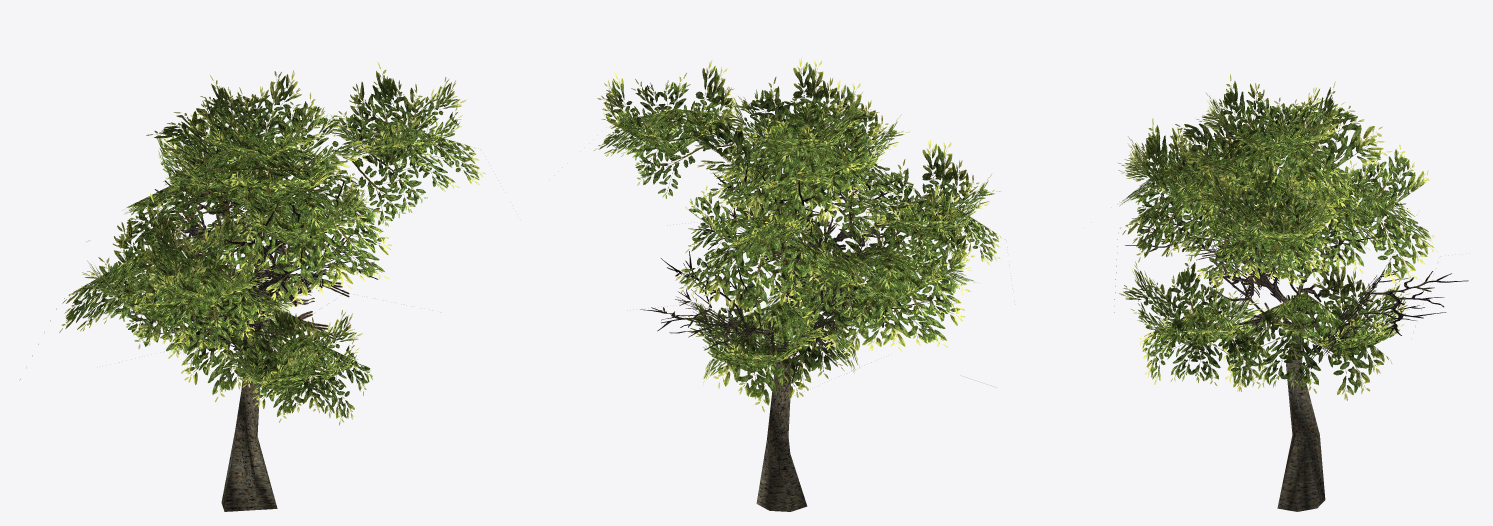
File: flora_tree_oak_holly_autumn_v4.glb
The picture shows the model from 3 angles, left to right: view 1: azimuth 30°, elevation 25°; view 2: azimuth 150°, elevation 25°; view 3: azimuth 270°, elevation 25°; orthographic projection. The views are drawn at different scales.
Visible parts, largest first — view 1: flora_tree_oak_holly_autumn_v4_part0, flora_tree_oak_holly_autumn_v4_part1; view 2: flora_tree_oak_holly_autumn_v4_part0, flora_tree_oak_holly_autumn_v4_part1; view 3: flora_tree_oak_holly_autumn_v4_part0, flora_tree_oak_holly_autumn_v4_part1.
Boxes of the visible parts, x1,y1,x2,y2 form: flora_tree_oak_holly_autumn_v4_part0: (20,62,485,511); flora_tree_oak_holly_autumn_v4_part1: (129,134,380,355); flora_tree_oak_holly_autumn_v4_part0: (594,57,1001,511); flora_tree_oak_holly_autumn_v4_part1: (640,136,927,392); flora_tree_oak_holly_autumn_v4_part0: (1114,74,1438,511); flora_tree_oak_holly_autumn_v4_part1: (1125,144,1468,392).
Size of the model in its own units: 23 by 21.43 by 17.4.
Materials: 2 (2 with a texture image).
